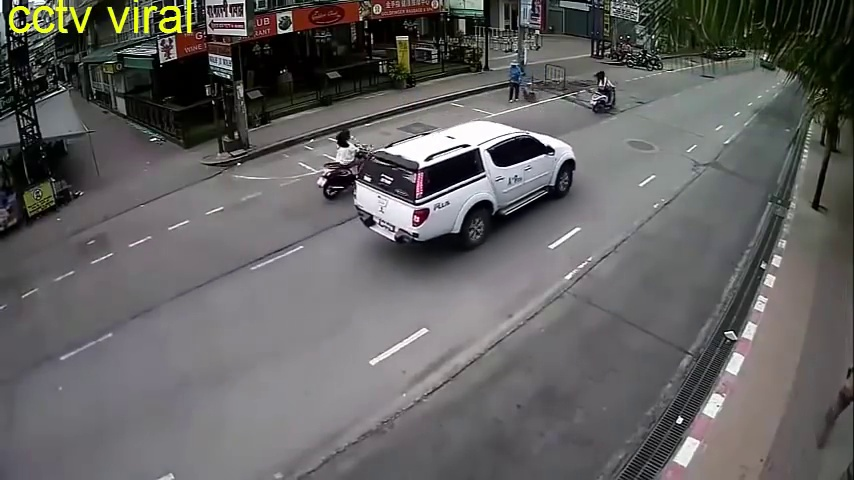car: (363, 114, 577, 258)
motorbike: (316, 129, 374, 202), (589, 71, 616, 116)
